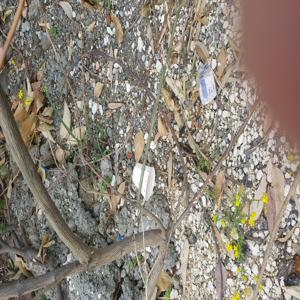cardboard: (122, 159, 166, 205)
plastic: (191, 53, 228, 107)
